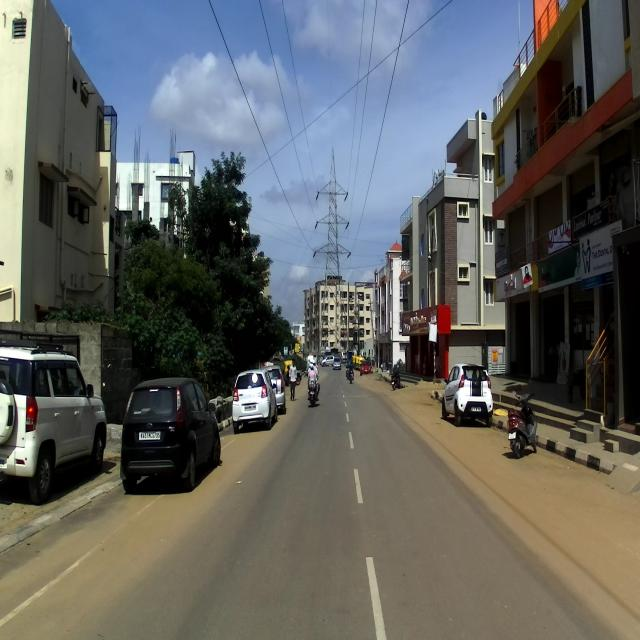Car: (441, 359, 494, 428), (231, 367, 278, 431)
Car_Ford: (119, 375, 221, 497)
Car_Mahindra: (0, 342, 108, 507)
Car_Maruti-Suzuki: (359, 357, 371, 376)
scooter: (506, 378, 537, 458)
